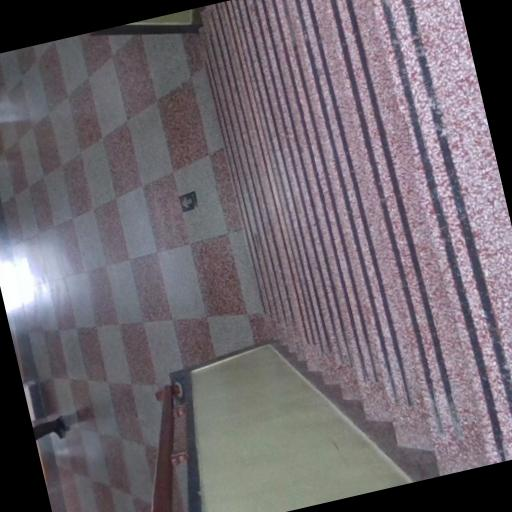stairs: (203, 0, 511, 474)
